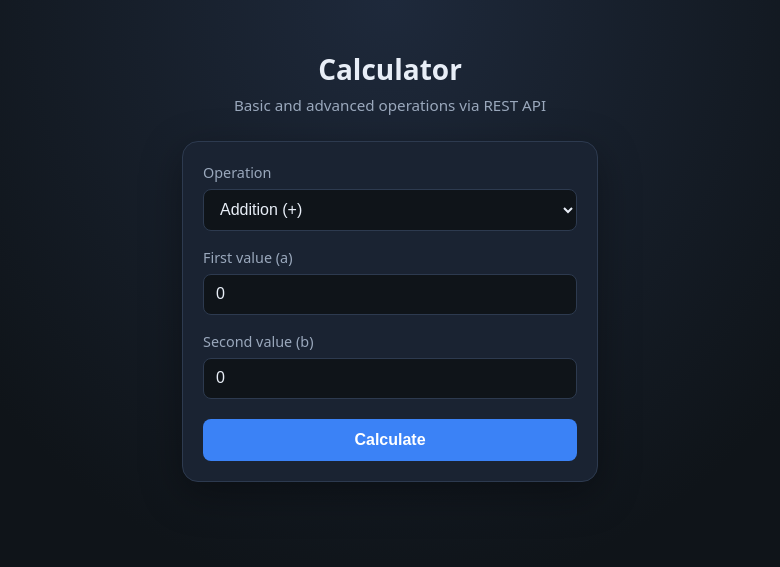
App › shows validation error for invalid input
The width and height of the screenshot is (780, 567).
Clear the field named "First operand" at (390, 294), box [203, 274, 577, 315]
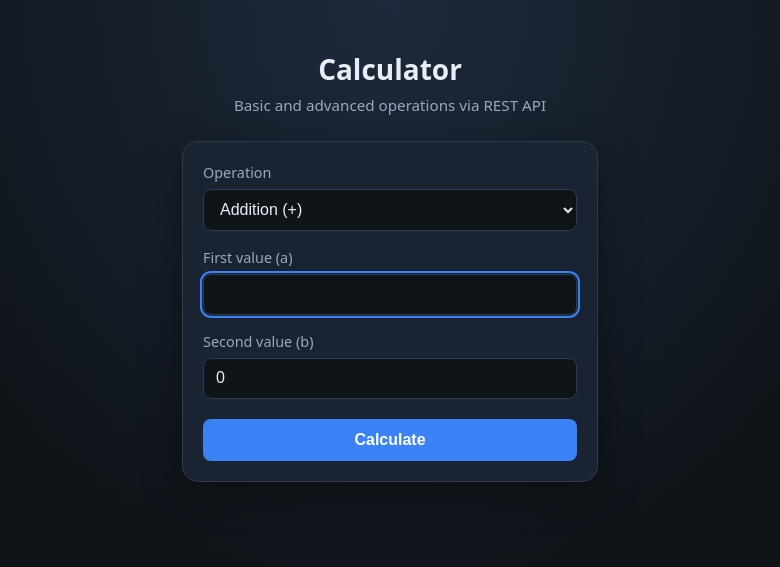
Click the button "Calculate" at (390, 440), box [203, 419, 577, 461]
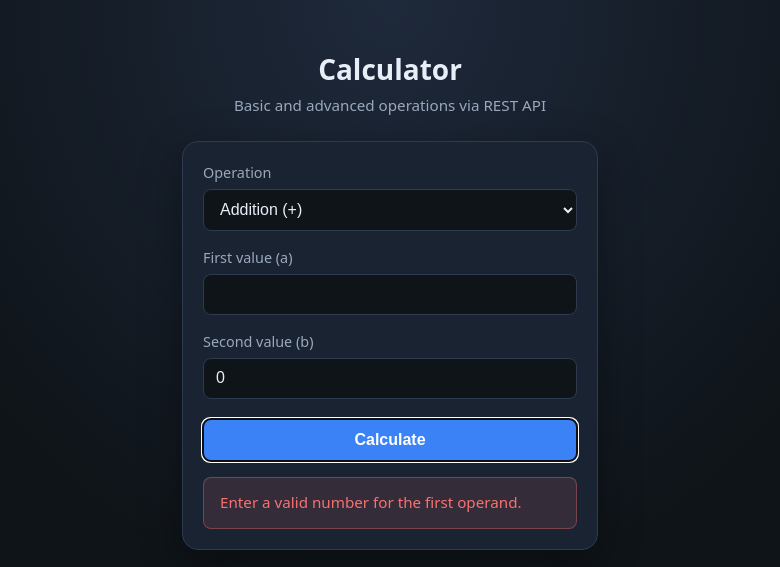
Expected: the message "Enter a valid number for the first operand." is shown, [203, 477, 577, 529]
